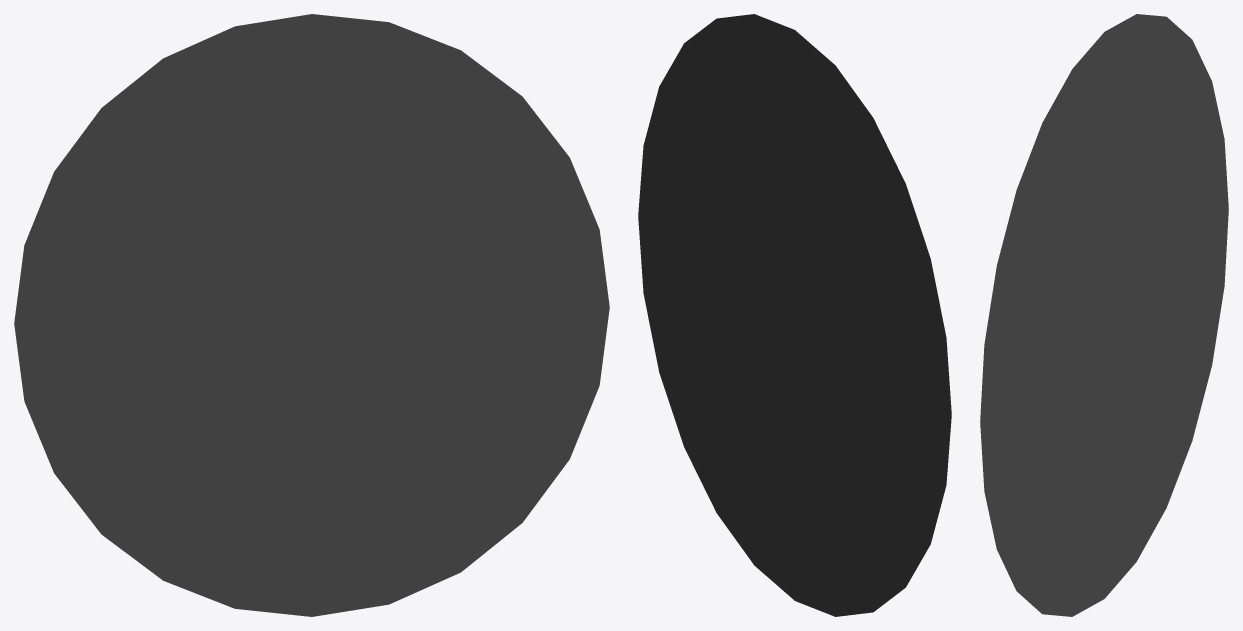
File: original-59.obj
3 views of the same model, side by side, from view 1: azimuth 30°, elevation 25°; view 2: azimuth 150°, elevation 25°; view 3: azimuth 270°, elevation 25° (orthographic). The views are drawn at different scales.
Parts seen in each view (by area): view 1: mesh82/mesh82-geometry/material_1/component_1#mesh82-geometry; view 2: mesh82/mesh82-geometry/material_1/component_1#mesh82-geometry; view 3: mesh82/mesh82-geometry/material_1/component_1#mesh82-geometry.
Part boxes in pixels (x1,y1,x2,y2): mesh82/mesh82-geometry/material_1/component_1#mesh82-geometry: [14, 14, 609, 616]; mesh82/mesh82-geometry/material_1/component_1#mesh82-geometry: [638, 14, 951, 616]; mesh82/mesh82-geometry/material_1/component_1#mesh82-geometry: [980, 14, 1228, 616].
Size of the model in its own units: 0.0249 by 0.0309 by 0.0123.
